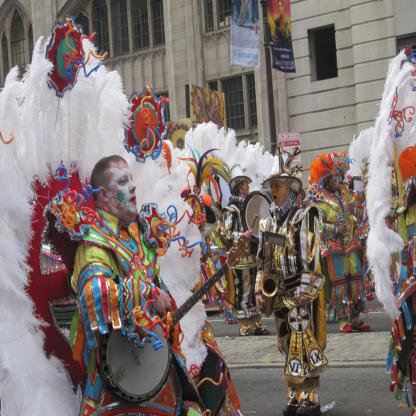face: (107, 165, 138, 217), (272, 177, 288, 205), (291, 183, 304, 207), (330, 168, 343, 189), (240, 179, 251, 197), (278, 2, 284, 15)
